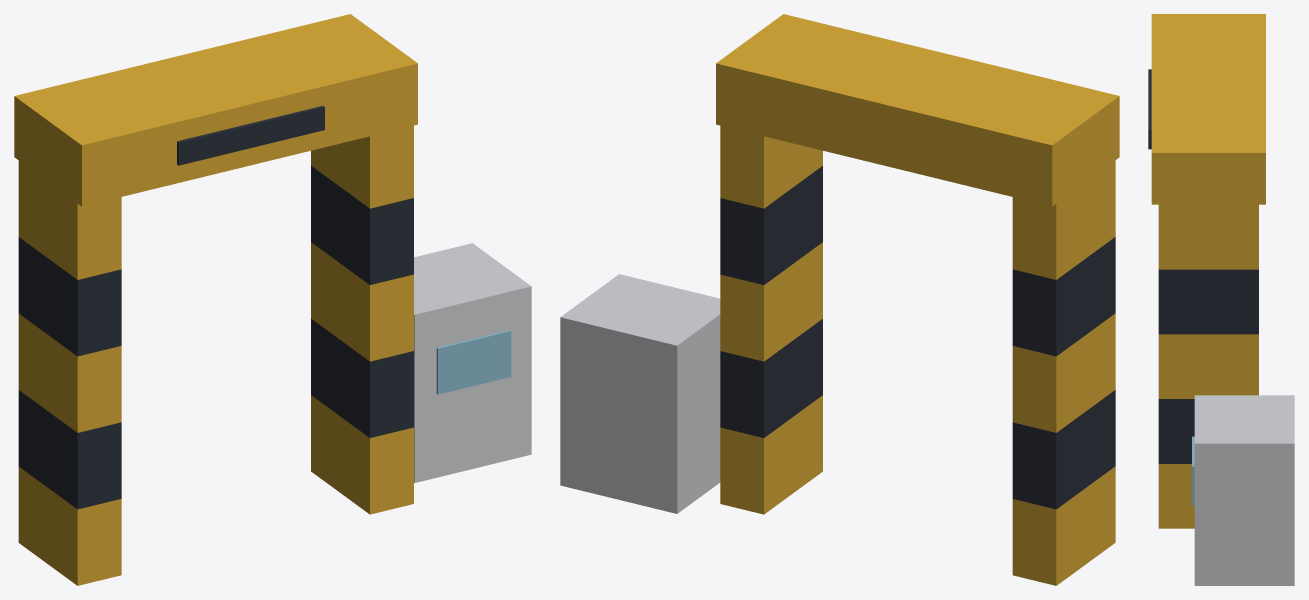
Rendered from scanner.glb.
The picture shows the model from 3 angles, left to right: view 1: azimuth 30°, elevation 25°; view 2: azimuth 150°, elevation 25°; view 3: azimuth 270°, elevation 25°; orthographic projection. The views are drawn at different scales.
Parts seen in each view (by area): view 1: scanner; view 2: scanner; view 3: scanner.
Part boxes in pixels (x1,y1,x2,y2): scanner: (14,14,531,585); scanner: (560,14,1119,585); scanner: (1148,14,1294,585).
Bounding box in the file's own units: 6.5 × 5.8 × 2.05.
